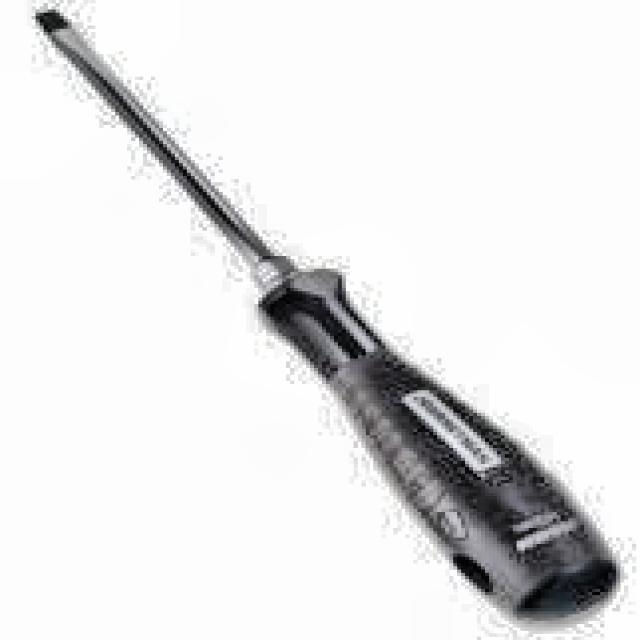screwdriver: (36, 6, 620, 628)
